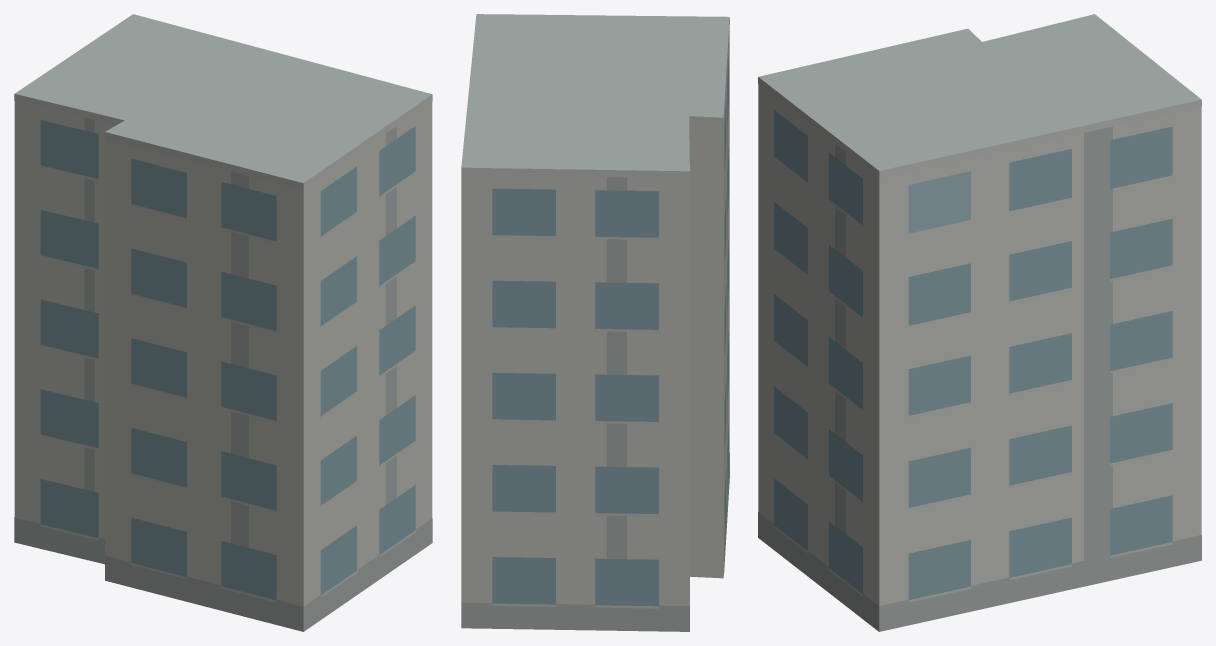
The model's file is survey-upis-32864270.glb.
The picture shows the model from 3 angles, left to right: view 1: azimuth 30°, elevation 25°; view 2: azimuth 150°, elevation 25°; view 3: azimuth 270°, elevation 25°; orthographic projection. The views are drawn at different scales.
Visible parts, largest first — view 1: survey-upis-32864270.tmp; view 2: survey-upis-32864270.tmp; view 3: survey-upis-32864270.tmp.
Boxes of the visible parts, bbox=[...] form: survey-upis-32864270.tmp: bbox=[14, 14, 432, 631]; survey-upis-32864270.tmp: bbox=[461, 14, 729, 631]; survey-upis-32864270.tmp: bbox=[758, 14, 1201, 631].
Size of the model in its own units: 11.33 by 15.5 by 13.53.
